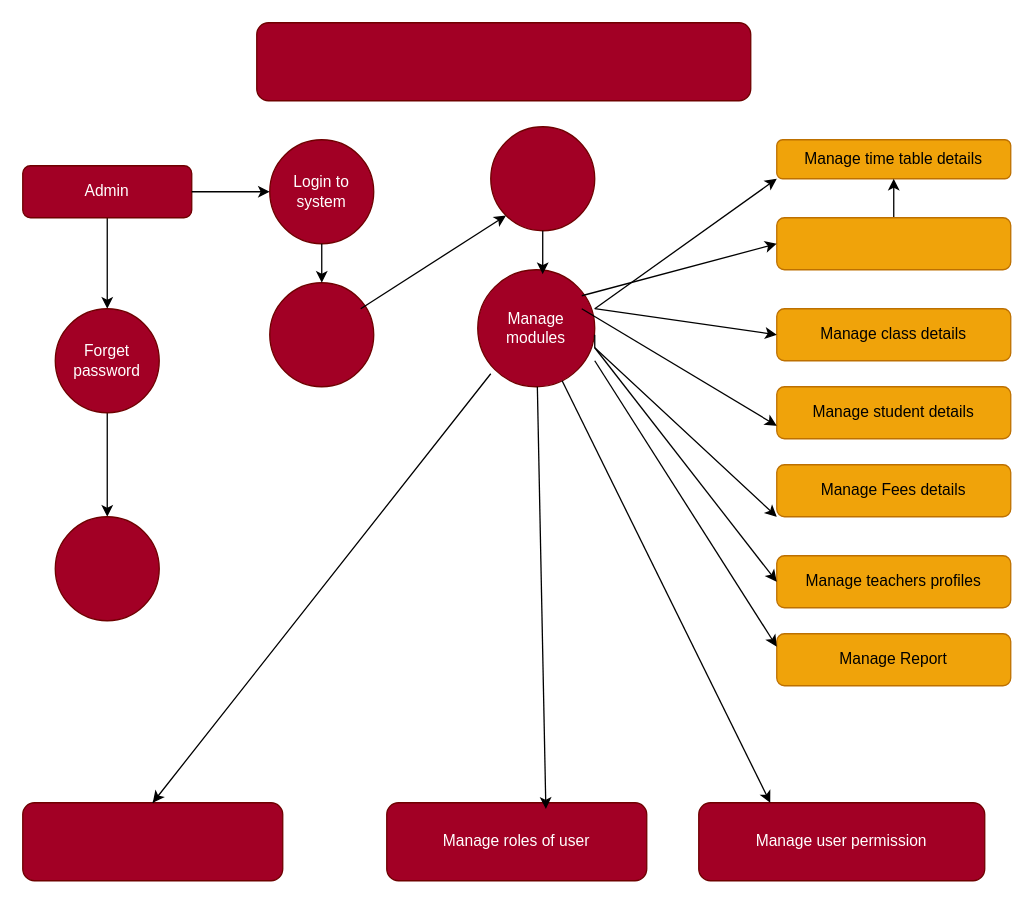
Image size: 1034x903. Some labels were removed from this diagram. Each missing label, with the centre of its shape:
Check credentials: pixel 321 334
Check role of access: pixel 542 178
Manage attandance details: pixel 893 243
Manage System Admins: pixel 152 841
Send e mal to user: pixel 106 568
Student information system: pixel 503 61
